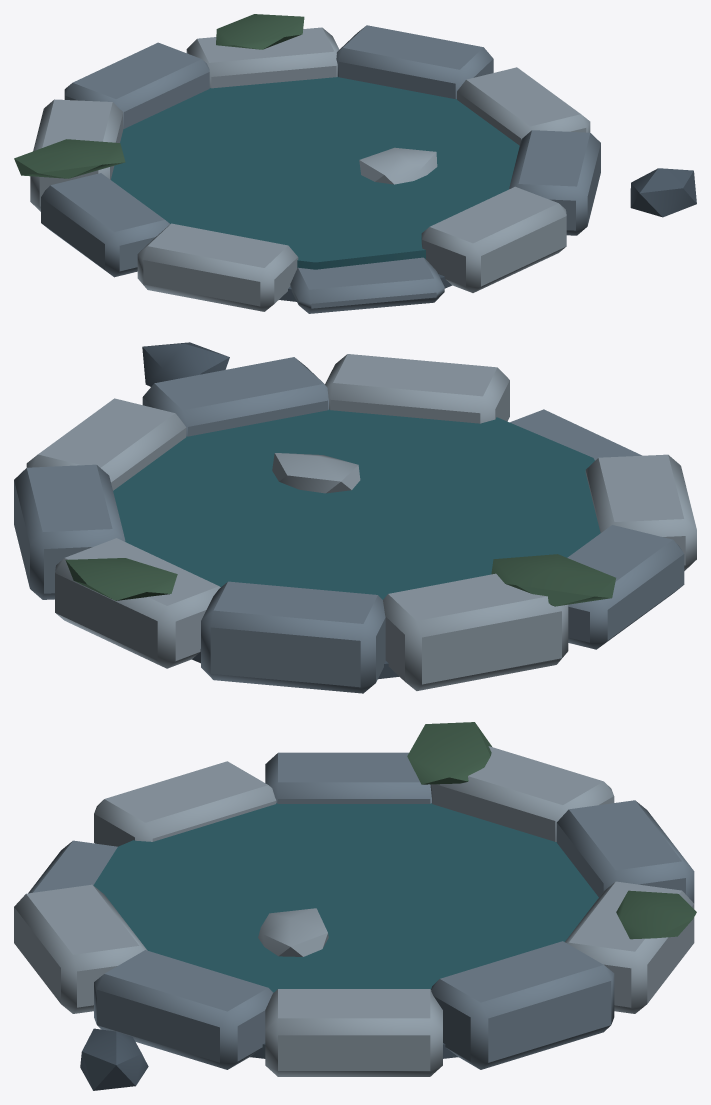
The model's file is crypt_pool.fbx.
3 views of the same model, one above another, from view 1: azimuth 30°, elevation 25°; view 2: azimuth 150°, elevation 25°; view 3: azimuth 270°, elevation 25° (orthographic). The views are drawn at different scales.
Parts seen in each view (by area): view 1: crypt_pool; view 2: crypt_pool; view 3: crypt_pool.
Part boxes in pixels (left/top/right/bottom): crypt_pool: left=14, top=14, right=696, bottom=313; crypt_pool: left=14, top=342, right=696, bottom=693; crypt_pool: left=14, top=722, right=696, bottom=1090.
Size of the model in its own units: 2.31 by 0.2806 by 2.15.
